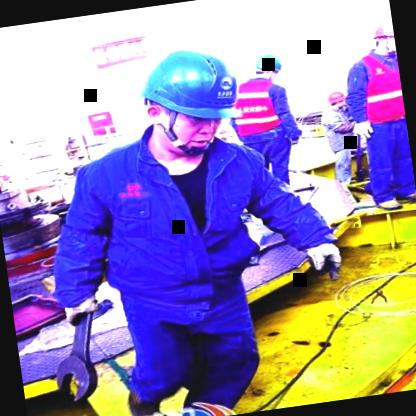helmet: (126, 26, 250, 168), (250, 48, 288, 86), (366, 13, 396, 58), (325, 86, 350, 112)
